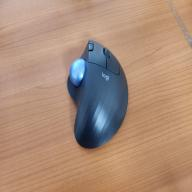mouse: (55, 22, 132, 154)
